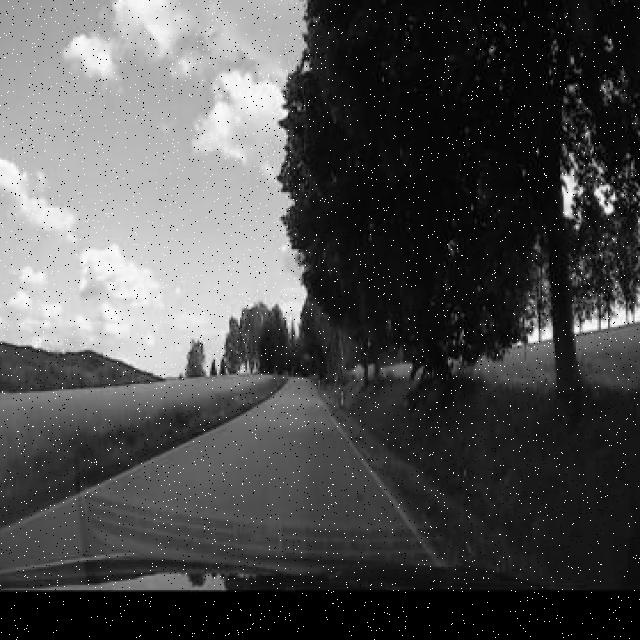clear-road: (99, 377, 412, 534)
